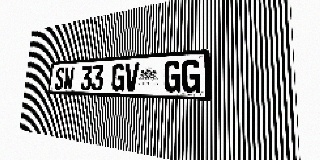3: (91, 65, 104, 91), (80, 65, 93, 90)
G: (181, 59, 201, 93), (163, 60, 181, 92), (111, 63, 125, 91)
S: (54, 67, 65, 90)
V: (124, 63, 139, 91)
W: (63, 66, 74, 90)
